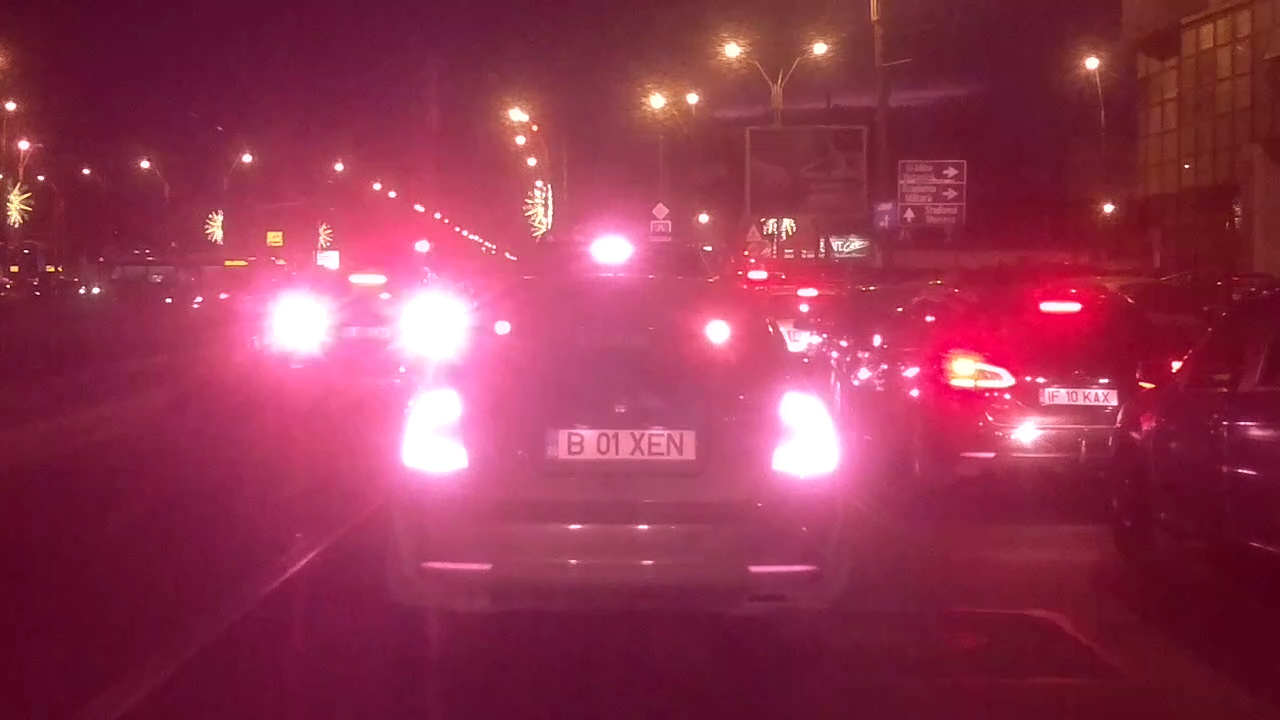license-plate: (540, 425, 699, 464), (1034, 385, 1121, 408)
